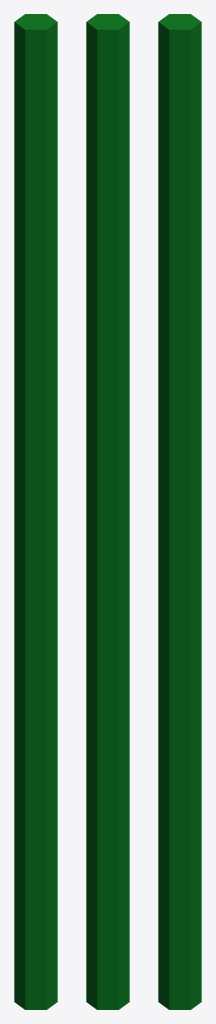
File: stem.dae
3 views of the same model, side by side, from view 1: azimuth 30°, elevation 25°; view 2: azimuth 150°, elevation 25°; view 3: azimuth 330°, elevation 25° (orthographic).
Visible parts, largest first — view 1: Cylinder; view 2: Cylinder; view 3: Cylinder.
Boxes of the visible parts, <box> form: Cylinder: <box>14,14,57,1009</box>; Cylinder: <box>86,14,129,1009</box>; Cylinder: <box>158,14,201,1009</box>.
Bounding box in the file's own units: 0.0346 × 0.04 × 1.
